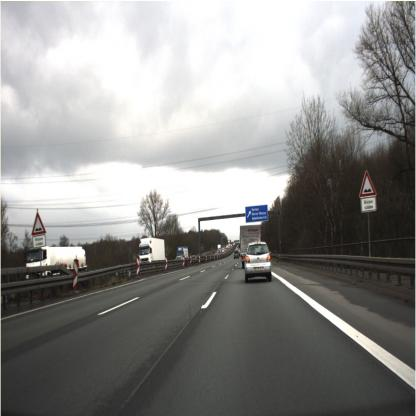uneven road: (359, 170, 376, 198), (31, 210, 47, 235)
